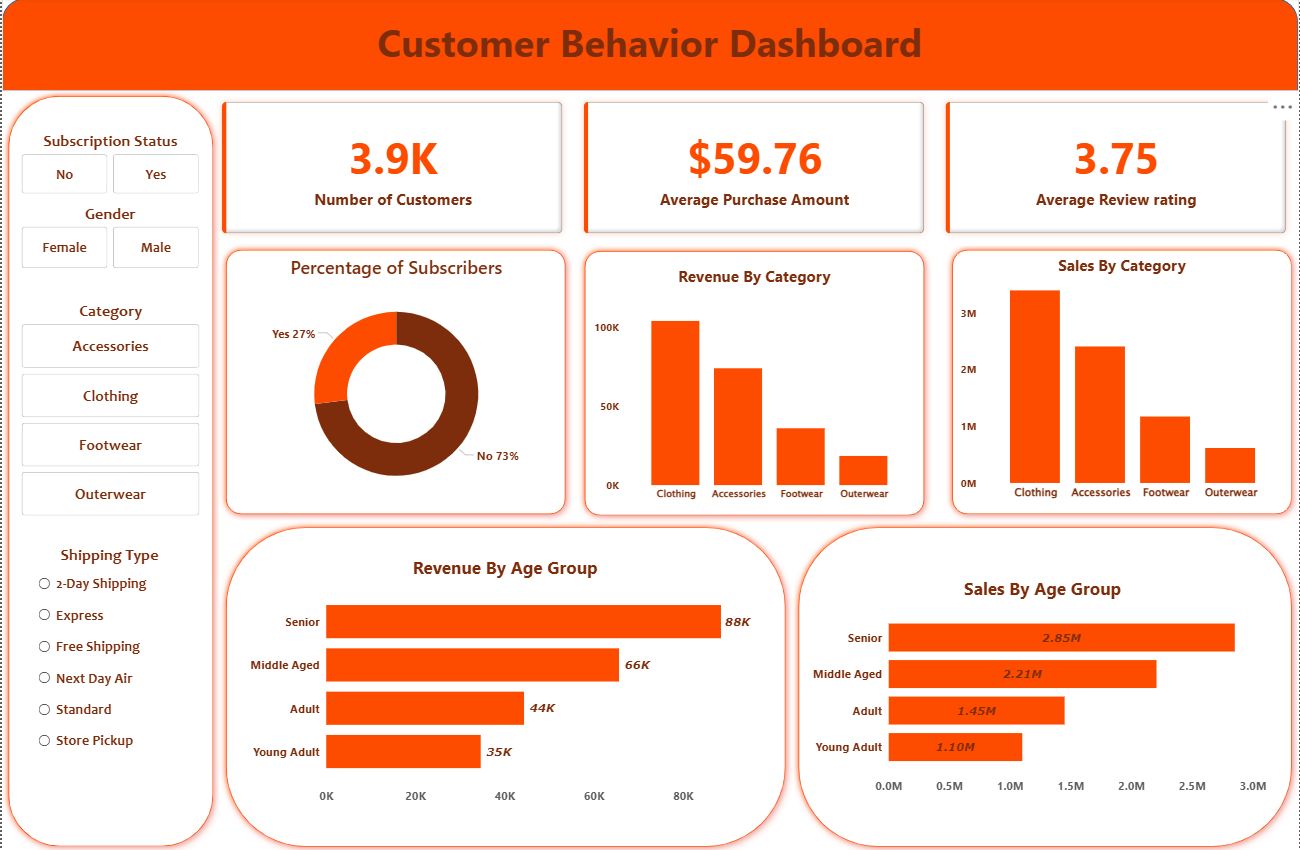

This screenshot's page, from the dashboard's own definition file:
{"tool":"powerbi","page":{"name":"Page 1","canvas":[1817,1200],"ordinal":0},"visuals":[{"type":"shape","box":[1107.5,734.2,709.7,466.1],"z":0},{"type":"shape","box":[304.9,734.2,802.6,466.1],"z":1000},{"type":"shape","box":[1323.3,345,494,389],"z":2000},{"type":"shape","box":[807.8,347,494.2,389],"z":3000},{"type":"cardVisual","fields":{"Data":["customer_behavior customer.Number of Customers","customer_behavior customer.Average Purchase Amount","customer_behavior customer.Average Review rating"]},"box":[293.3,131.7,1523.3,216.7],"z":4000},{"type":"shape","box":[0,1.7,1816.7,130],"z":5000},{"type":"textbox","box":[0,21.7,1816.7,108.3],"z":6000},{"type":"shape","box":[304.9,345.2,494.2,389],"z":7000},{"type":"donutChart","title":"Percentage  of Subscribers","fields":{"Category":["customer_behavior customer.subscription_status"],"Y":["CountNonNull(customer_behavior customer.customer_id)"]},"box":[324.2,361,457.4,357.5],"z":8000},{"type":"clusteredColumnChart","title":"Revenue By Category","fields":{"Y":["Sum(customer_behavior customer.purchase_amount_usd)"],"Category":["customer_behavior customer.category"]},"box":[825.4,376.8,459.1,341.7],"z":9000},{"type":"clusteredColumnChart","title":"Sales By Category","fields":{"Y":["Sum(customer_behavior customer.customer_id)"],"Category":["customer_behavior customer.category"]},"box":[1338.8,361,462.6,357.5],"z":10000},{"type":"shape","box":[0,130,305,1070],"z":11000},{"type":"advancedSlicerVisual","title":"Subscription Status","fields":{"Values":["customer_behavior customer.subscription_status"]},"box":[23.3,186.7,258.3,93.3],"z":12000},{"type":"advancedSlicerVisual","fields":{"Values":["customer_behavior customer.gender"]},"box":[23.3,290,258.3,96.7],"z":13000},{"type":"advancedSlicerVisual","title":"Category","fields":{"Values":["customer_behavior customer.category"]},"box":[22.8,425.8,259.3,308.4],"z":14000},{"type":"listSlicer","fields":{"Values":["customer_behavior customer.shipping_type"]},"box":[45.6,767.5,210.3,392.5],"z":15000},{"type":"clusteredBarChart","title":"Revenue By Age Group","fields":{"Y":["Sum(customer_behavior customer.purchase_amount_usd)"],"Category":["customer_behavior customer.Age Group"]},"box":[341.7,783.3,727.2,359.2],"z":16000},{"type":"clusteredBarChart","title":"Sales By Age Group","fields":{"Y":["Sum(customer_behavior customer.customer_id)"],"Category":["customer_behavior customer.Age Group"]},"box":[1130.3,813.1,657.1,315.4],"z":17000}]}

Visuals, with their boxes in screenshot pixels (x1, y1, x2, y2), scaled from the page's 1817x1200 canvas onto the 1300x850 screenshot:
shape: bbox(792, 520, 1299, 849)
shape: bbox(218, 520, 792, 849)
shape: bbox(947, 244, 1299, 520)
shape: bbox(578, 246, 932, 521)
cardVisual - customer_behavior customer.Number of Customers x customer_behavior customer.Average Purchase Amount: bbox(210, 93, 1299, 247)
shape: bbox(0, 1, 1299, 93)
textbox: bbox(0, 15, 1299, 92)
shape: bbox(218, 245, 572, 520)
"Percentage  of Subscribers" donutChart: bbox(232, 256, 559, 509)
"Revenue By Category" clusteredColumnChart: bbox(591, 267, 919, 509)
"Sales By Category" clusteredColumnChart: bbox(958, 256, 1289, 509)
shape: bbox(0, 92, 218, 849)
"Subscription Status" advancedSlicerVisual: bbox(17, 132, 201, 198)
advancedSlicerVisual - customer_behavior customer.gender: bbox(17, 205, 201, 274)
"Category" advancedSlicerVisual: bbox(16, 302, 202, 520)
listSlicer - customer_behavior customer.shipping_type: bbox(33, 544, 183, 822)
"Revenue By Age Group" clusteredBarChart: bbox(244, 555, 765, 809)
"Sales By Age Group" clusteredBarChart: bbox(809, 576, 1279, 799)
